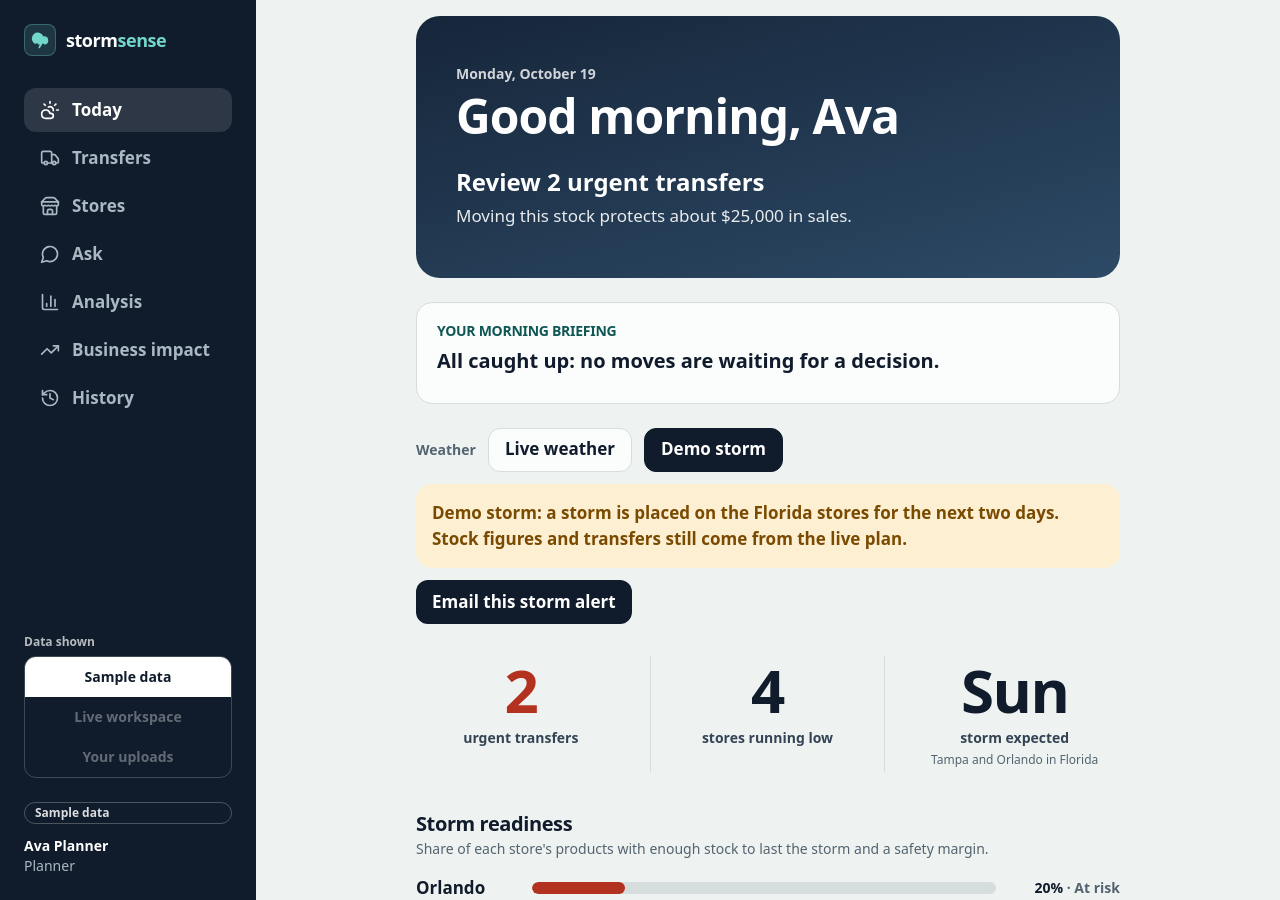
Demo storm email › sends the demo storm alert when the planner clicks the button, and confirms it
Click the button "Email this storm alert": (524, 602) [416,580,632,624]
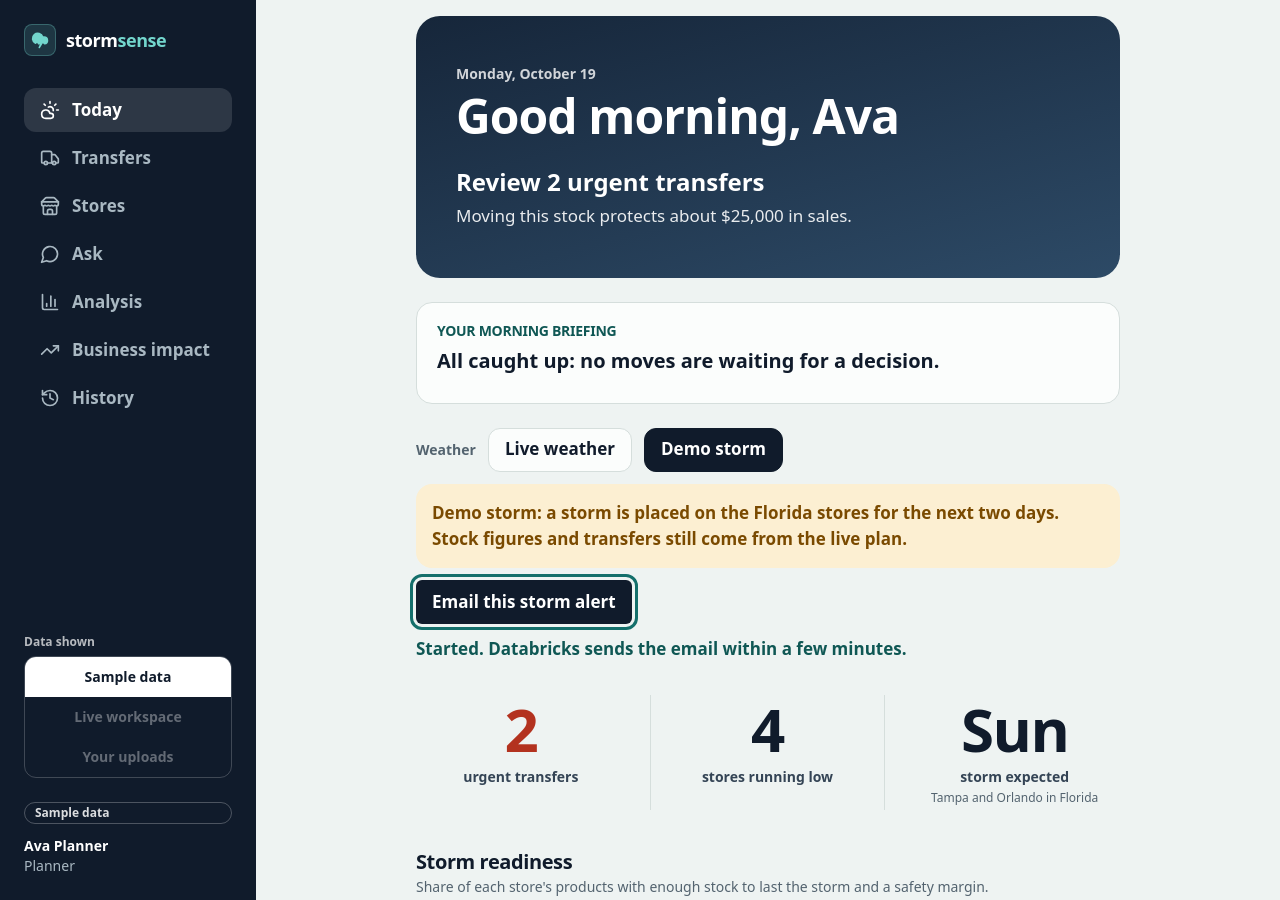
Check: the text "Started. Databricks sends the email within a few minutes." is shown, box [416,636,906,663]
